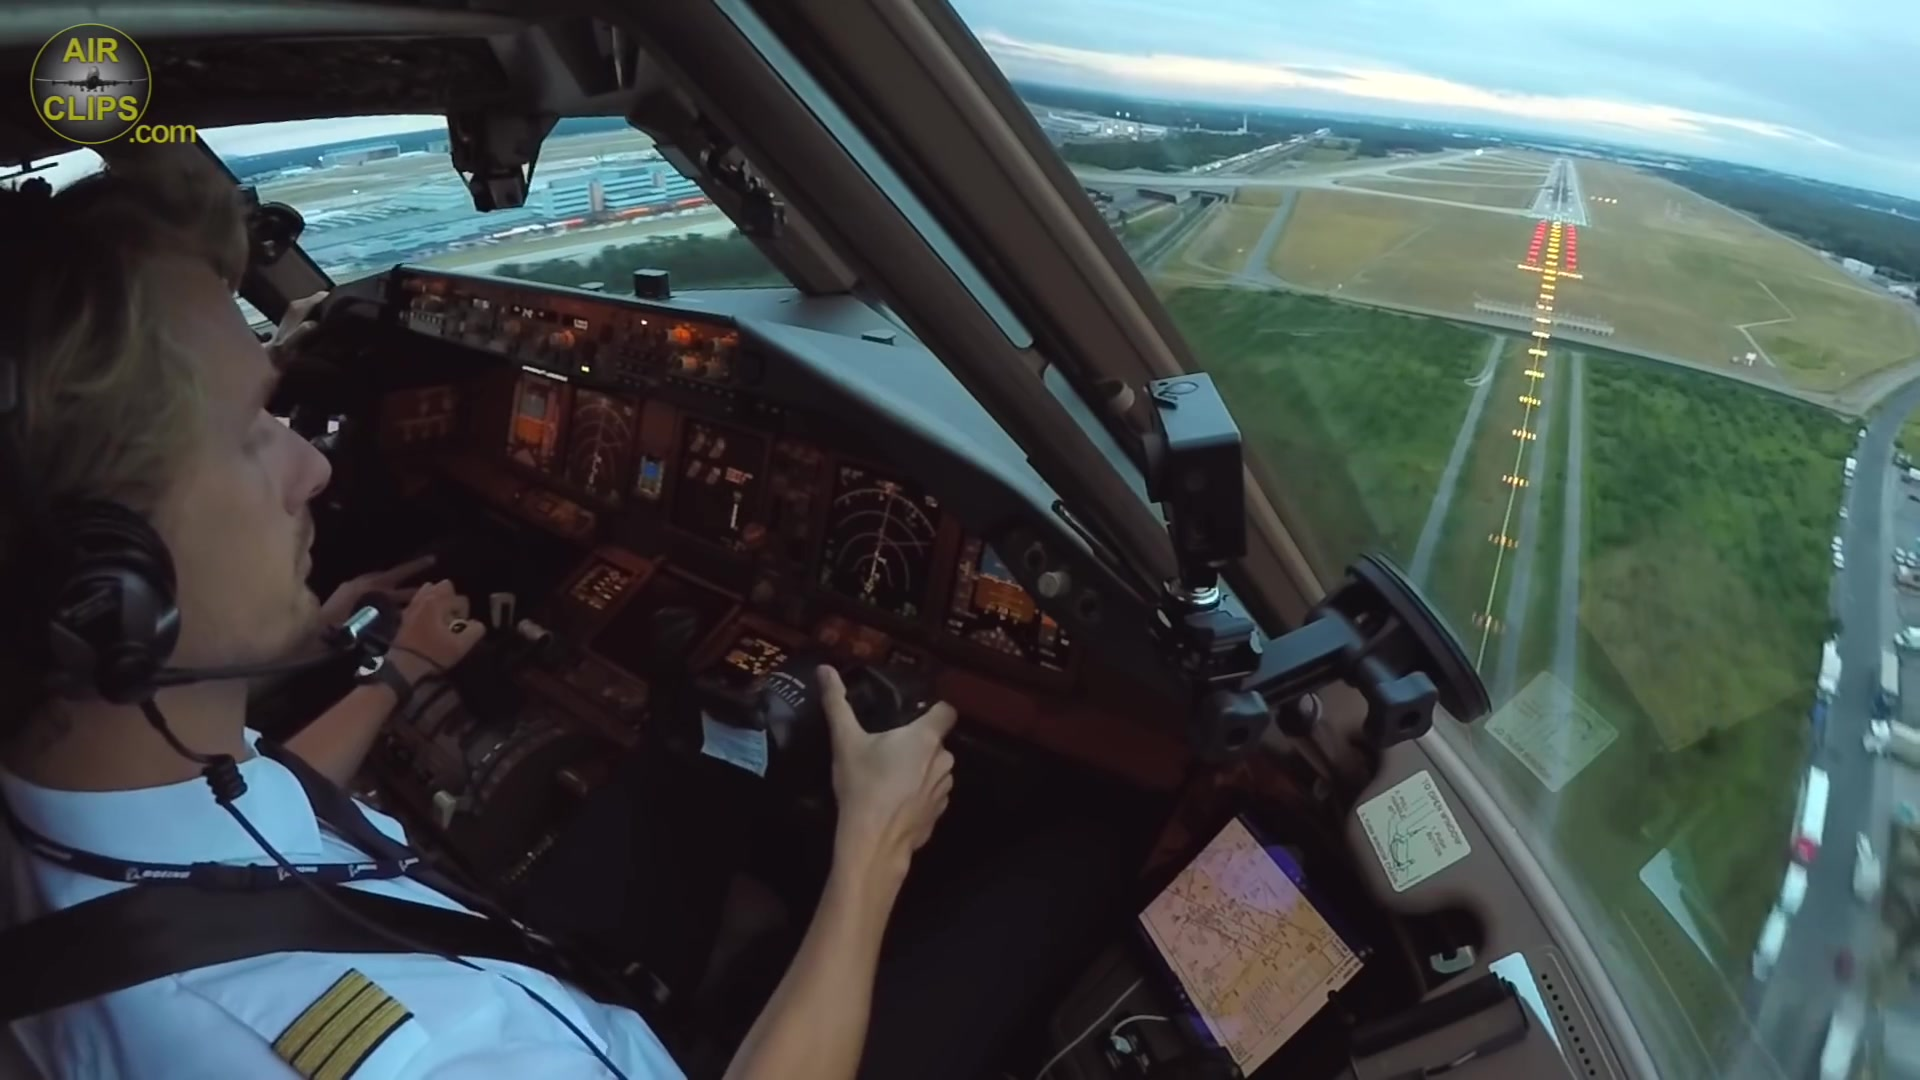runway: (1528, 158, 1592, 225)
